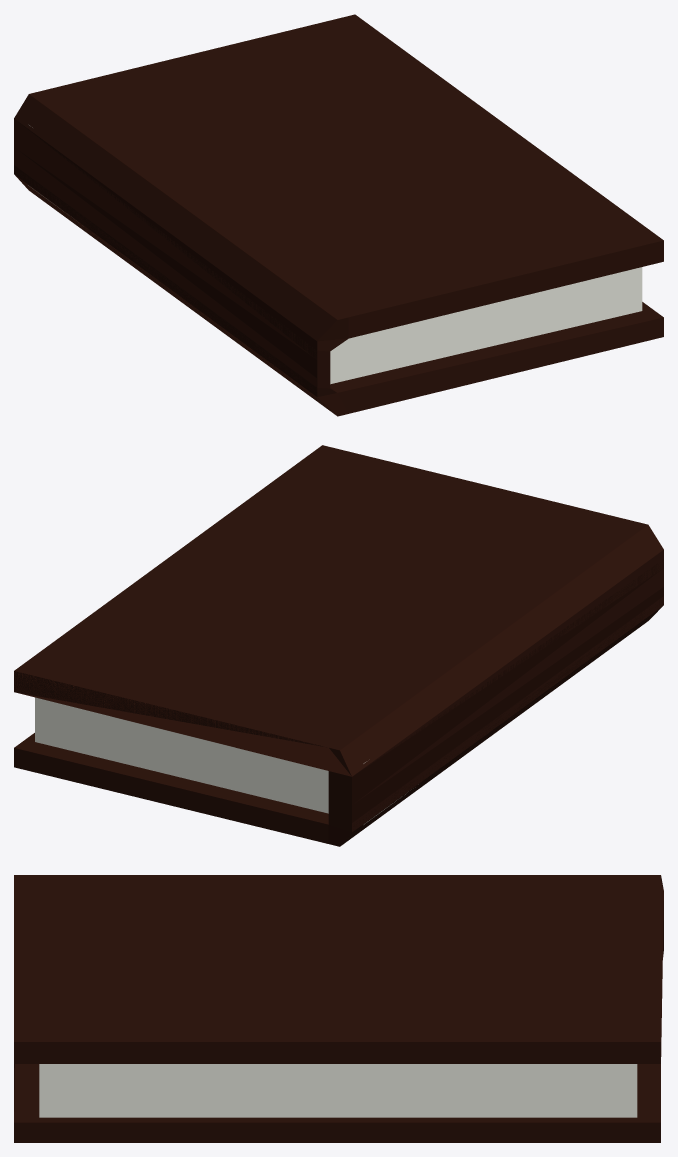
The model's file is Notebook.glb.
3 views of the same model, one above another, from view 1: azimuth 30°, elevation 25°; view 2: azimuth 150°, elevation 25°; view 3: azimuth 270°, elevation 25° (orthographic). The views are drawn at different scales.
Visible parts, largest first — view 1: Cube, Cube.001; view 2: Cube, Cube.001; view 3: Cube, Cube.001.
Part boxes in pixels (left/top/right/bottom): Cube: left=14, top=14, right=663, bottom=416; Cube.001: left=28, top=124, right=642, bottom=384; Cube: left=14, top=445, right=663, bottom=846; Cube.001: left=35, top=697, right=405, bottom=824; Cube: left=14, top=875, right=663, bottom=1142; Cube.001: left=39, top=1064, right=637, bottom=1117.
Bounding box in the file's own units: 2.1 × 0.5615 × 3.27.
